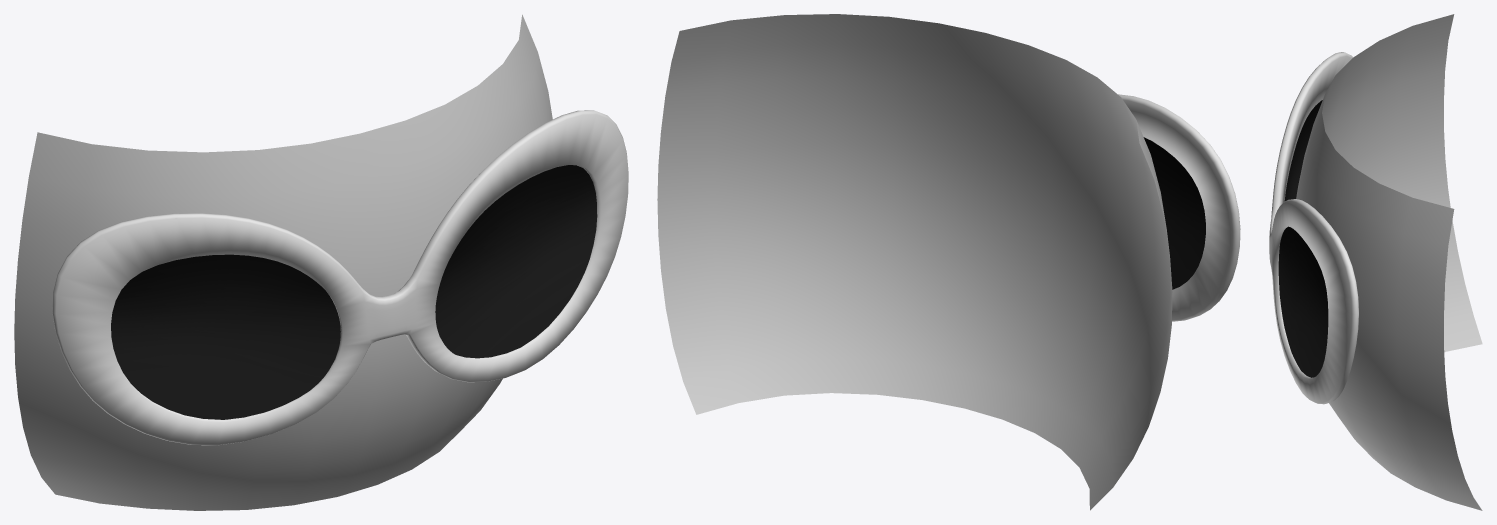
Rendered from Cosmic Sunglasses.fbx.
The picture shows the model from 3 angles, left to right: view 1: azimuth 30°, elevation 25°; view 2: azimuth 150°, elevation 25°; view 3: azimuth 270°, elevation 25°; orthographic projection. The views are drawn at different scales.
Visible parts, largest first — view 1: Sunglasses; view 2: Sunglasses; view 3: Sunglasses.
Boxes of the visible parts, x1,y1,x2,y2 form: Sunglasses: (14, 14, 628, 510); Sunglasses: (657, 14, 1240, 510); Sunglasses: (1269, 14, 1482, 510).
Size of the model in its own units: 59.29 by 37.73 by 23.09.
